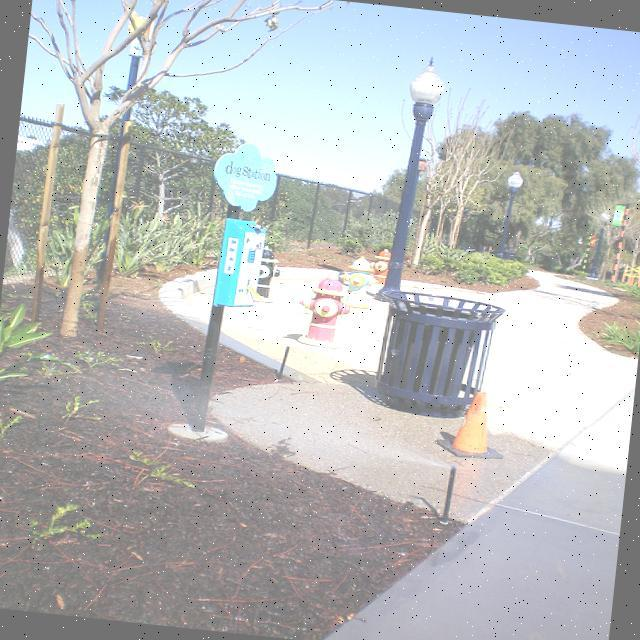fire_hydrant: (293, 267, 354, 350), (336, 253, 382, 310), (254, 244, 285, 298), (367, 247, 389, 286)
